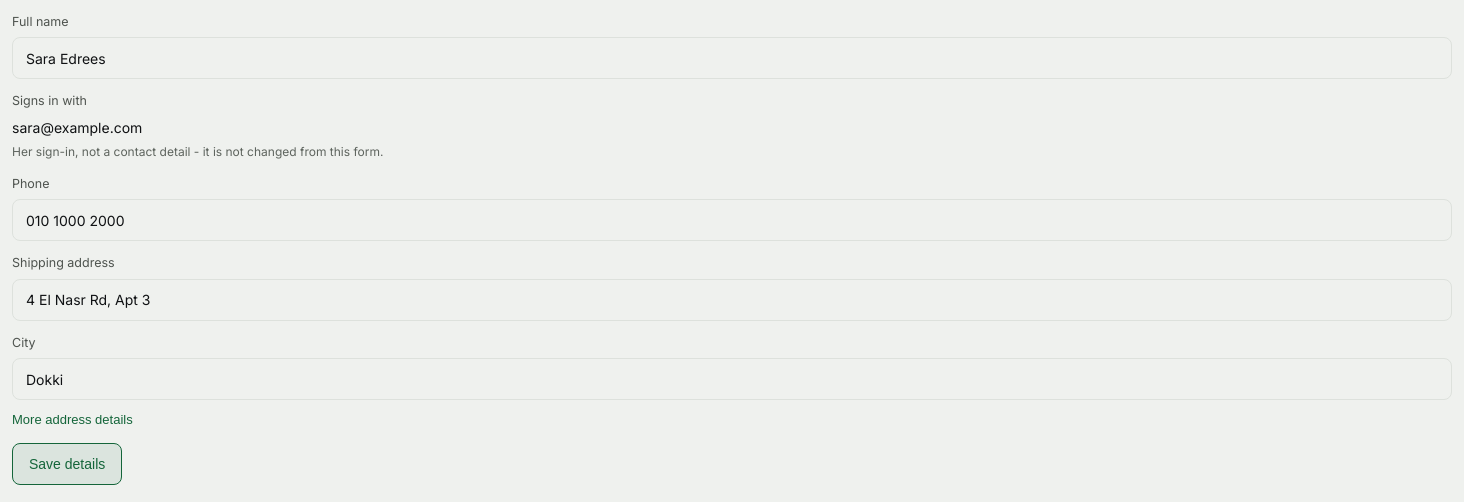
Test: Contact and shipping (item 14) › sends only what changed, never the sign-in, and says Saved
Replace the text in the field labelled "Full name" with "Sara Edrees Ali" at [732, 58], box [12, 37, 1452, 79]
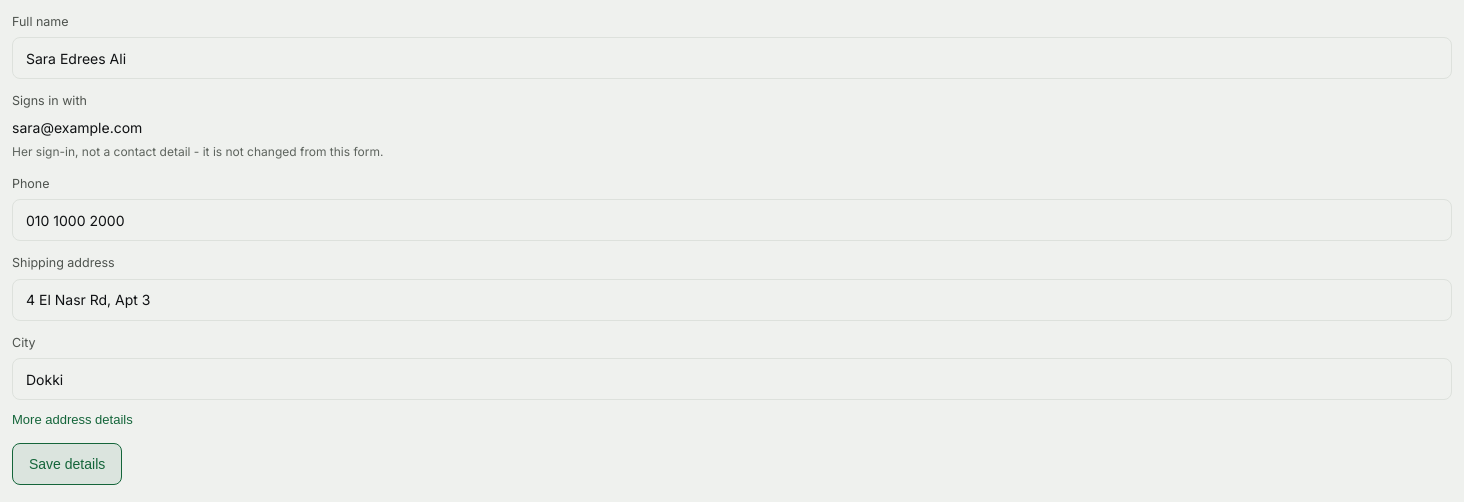
Replace the text in the field labelled "City" with "Mohandessin" at [732, 379], box [12, 358, 1452, 400]
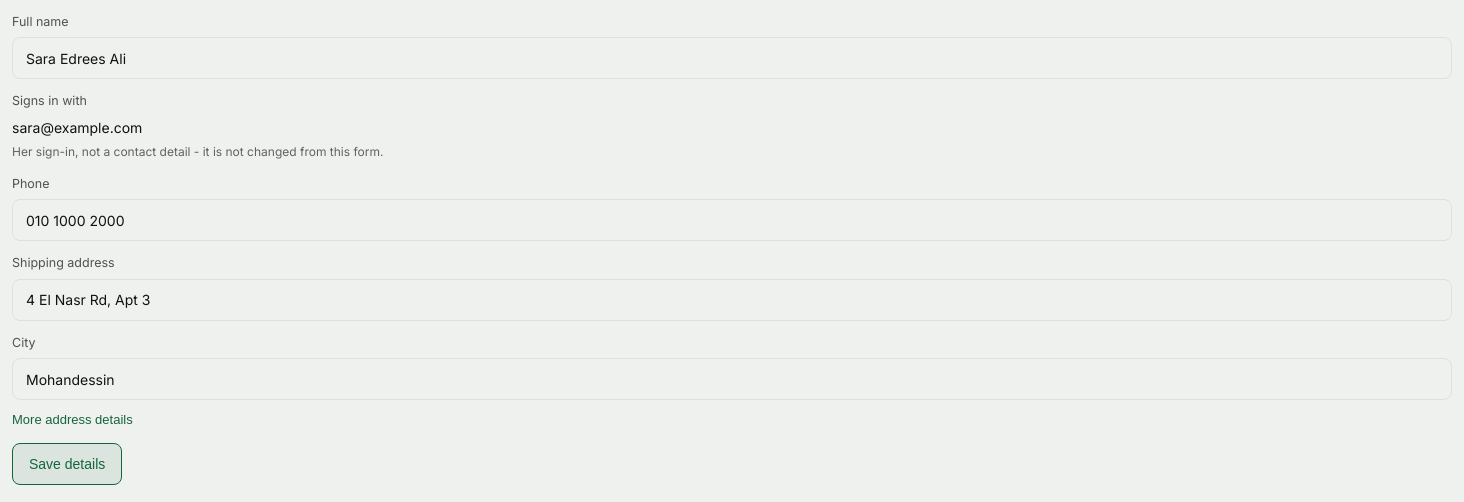
Click the button "Save details" at [67, 464], box [12, 443, 122, 485]
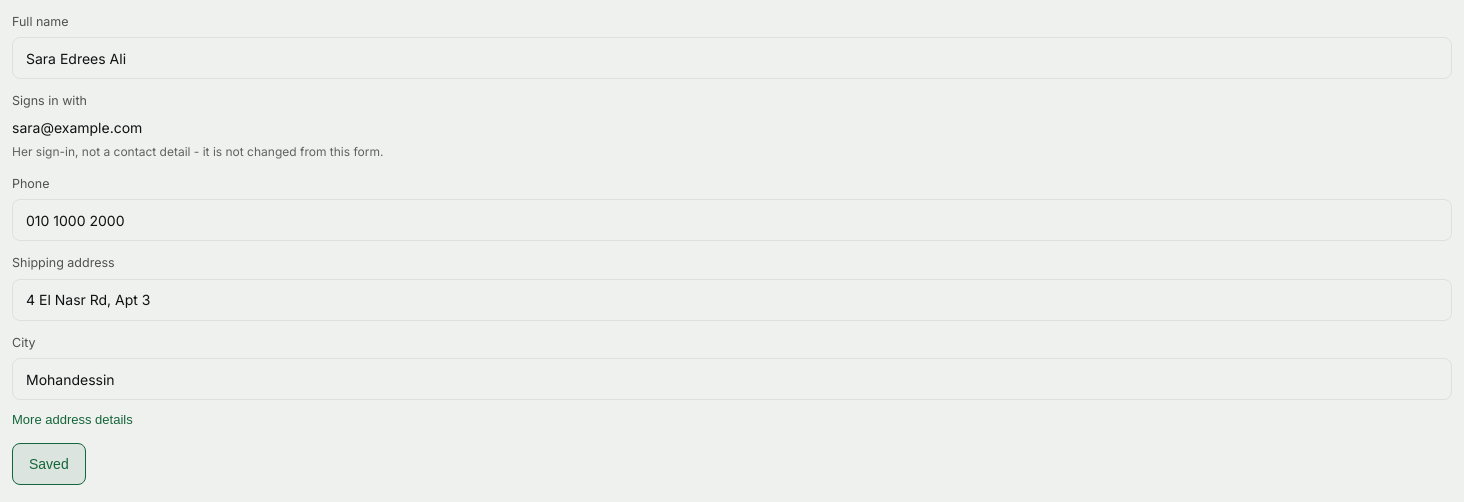
expect the button "Saved" is shown: met, box [12, 443, 86, 485]
